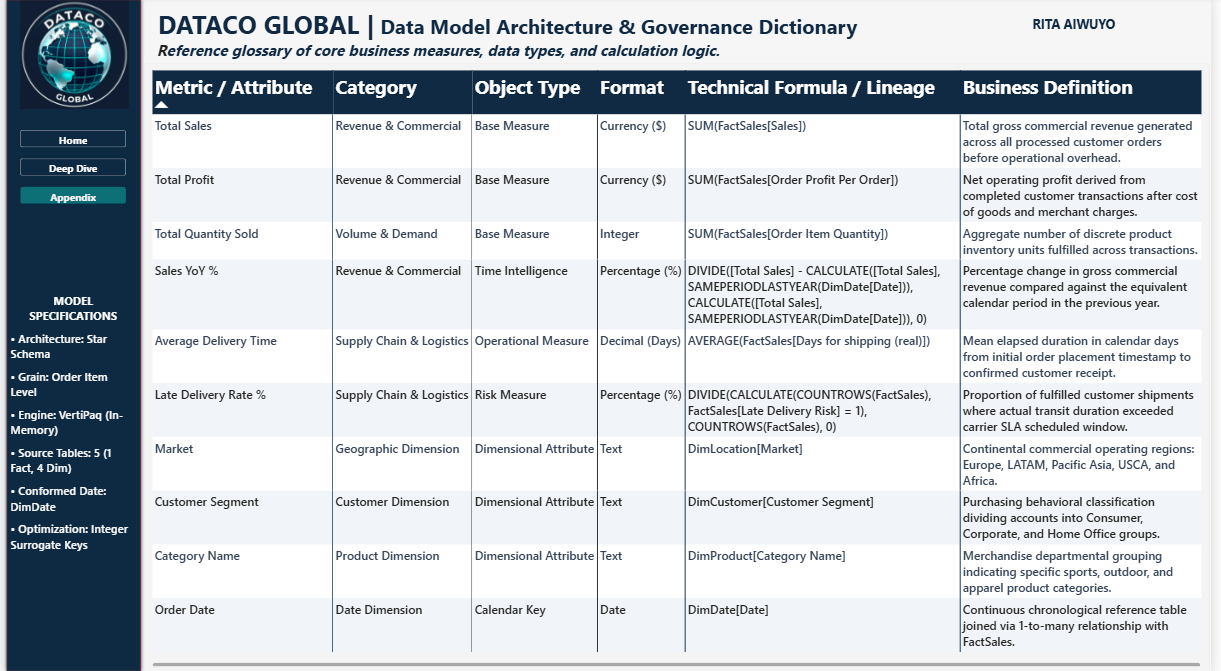

Layout of this report page (visuals, bound fields, positions):
{"tool":"powerbi","page":{"name":"Appendix","canvas":[2560,1440],"ordinal":2},"visuals":[{"type":"textbox","box":[2000,40,540,60],"z":0},{"type":"textbox","box":[300,23.3,1640,150],"z":1000},{"type":"shape","box":[0,0,300,1440],"z":3000},{"type":"actionButton","box":[3.3,10,296.7,236.7],"z":4000},{"type":"pageNavigator","box":[30,276.7,240,173.3],"z":5000},{"type":"tableEx","fields":{"Values":["DataDictionary.Metric / Attribute","DataDictionary.Category","DataDictionary.Object Type","DataDictionary.Format","DataDictionary.Technical Formula / Lineage","DataDictionary.Business Definition"]},"box":[300,143.3,2260,1296.7],"z":12001},{"type":"textbox","box":[16.7,630,266.7,720],"z":12002}]}

Visuals, with their boxes on the page's 2560x1440 design canvas (x1, y1, x2, y2). These are canvas units, not pixel positions in the 1221x671 screenshot, which may show the page scaled, cropped or inside an application window:
textbox: <bbox>2000, 40, 2540, 100</bbox>
textbox: <bbox>300, 23, 1940, 173</bbox>
shape: <bbox>0, 0, 300, 1440</bbox>
actionButton: <bbox>3, 10, 300, 247</bbox>
pageNavigator: <bbox>30, 277, 270, 450</bbox>
tableEx - DataDictionary.Metric / Attribute x DataDictionary.Category: <bbox>300, 143, 2560, 1440</bbox>
textbox: <bbox>17, 630, 283, 1350</bbox>
